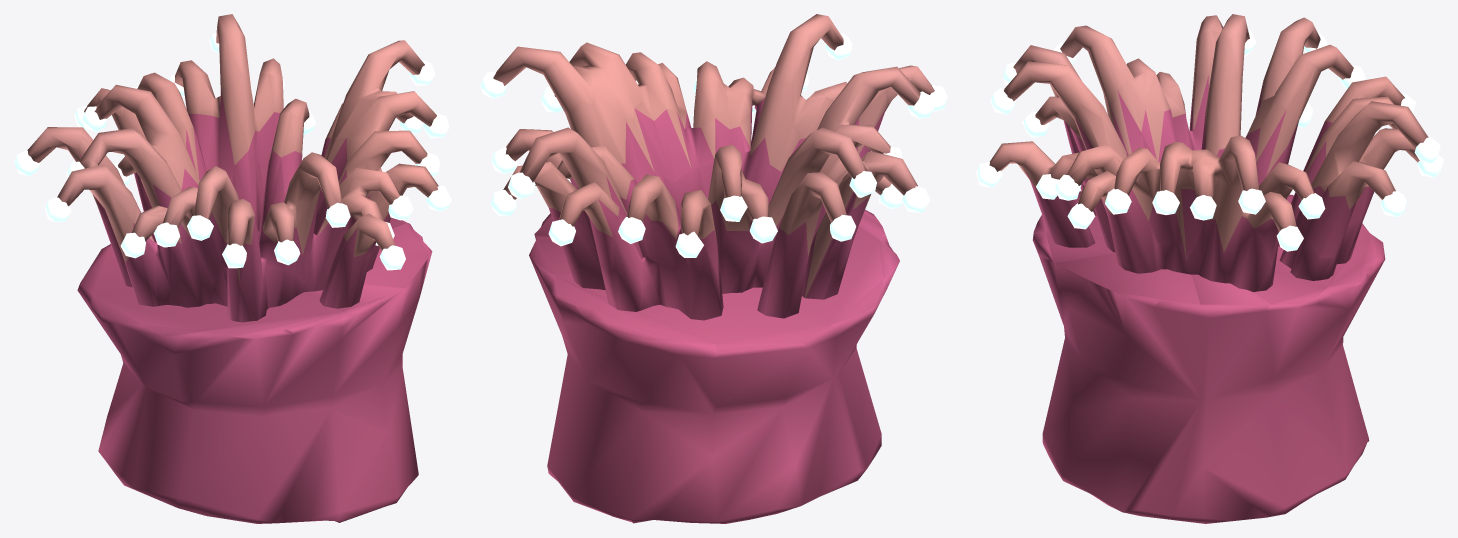
The model's file is shore_anemone_lod1.glb.
3 renders of one model, left to right at view 1: azimuth 30°, elevation 25°; view 2: azimuth 150°, elevation 25°; view 3: azimuth 270°, elevation 25°, orthographic. The views are drawn at different scales.
Parts seen in each view (by area): view 1: shore_anemone.001; view 2: shore_anemone.001; view 3: shore_anemone.001.
Boxes of the visible parts, <box> form: shore_anemone.001: <box>14,14,451,523</box>; shore_anemone.001: <box>480,14,947,523</box>; shore_anemone.001: <box>976,14,1443,523</box>.
Bounding box in the file's own units: 5.47 × 4.92 × 5.38.
